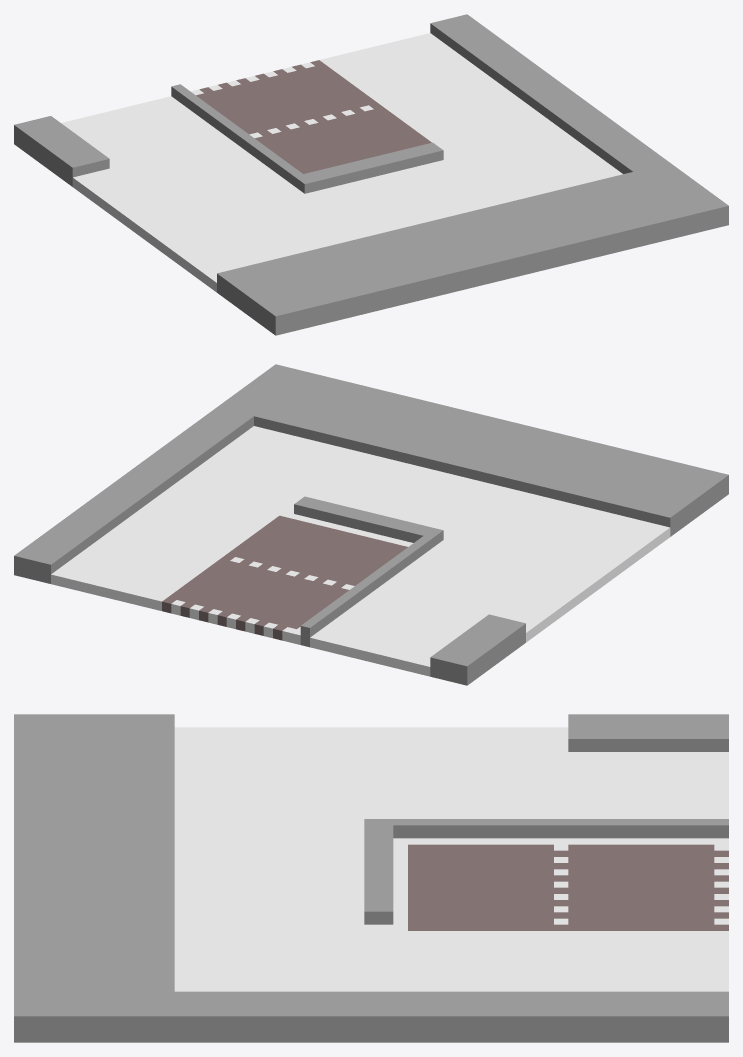
The model's file is park1_49.gltf.
The picture shows the model from 3 angles, top to bottom: view 1: azimuth 30°, elevation 25°; view 2: azimuth 150°, elevation 25°; view 3: azimuth 270°, elevation 25°; orthographic projection. The views are drawn at different scales.
Parts seen in each view (by area): view 1: stone, tar, park, ink; view 2: tar, stone, park, ink; view 3: stone, tar, park, ink.
Boxes of the visible parts, bbox=[...] form: stone: bbox=[14, 14, 728, 335]; tar: bbox=[61, 35, 613, 288]; park: bbox=[196, 60, 431, 173]; ink: bbox=[72, 33, 622, 292]; tar: bbox=[60, 432, 664, 674]; stone: bbox=[14, 364, 728, 685]; park: bbox=[162, 515, 407, 640]; ink: bbox=[51, 426, 670, 676]; stone: bbox=[14, 714, 728, 1042]; tar: bbox=[189, 727, 728, 991]; park: bbox=[408, 844, 728, 930]; ink: bbox=[174, 727, 728, 991].
Bounding box in the file's own units: 49 × 2 × 49.
4 materials, 4 textured.
